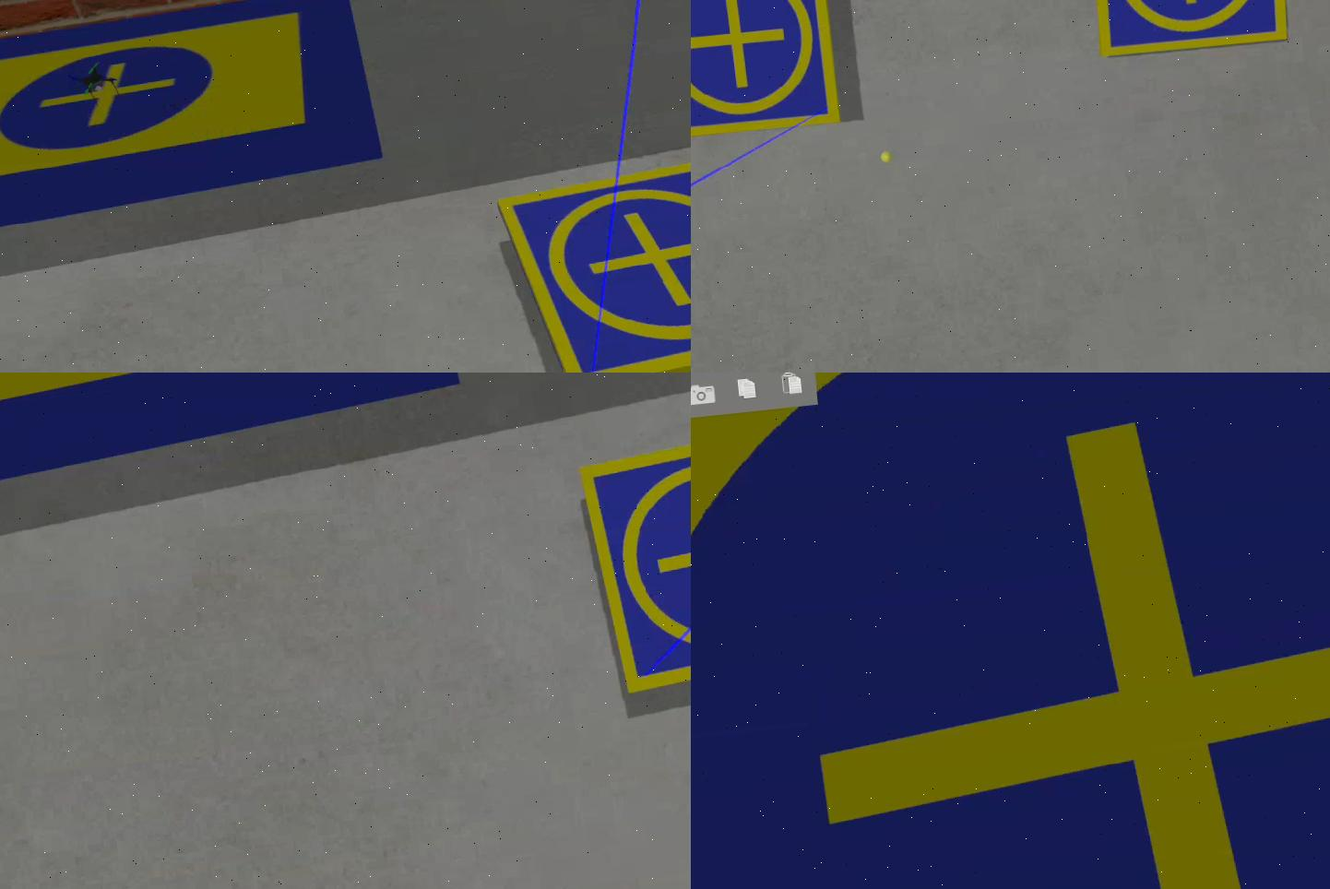large_base: (692, 373, 1330, 889), (1, 1, 387, 231), (1, 373, 470, 502)
small_base: (496, 152, 692, 373), (579, 417, 692, 695), (692, 1, 848, 148), (1078, 1, 1300, 66)
